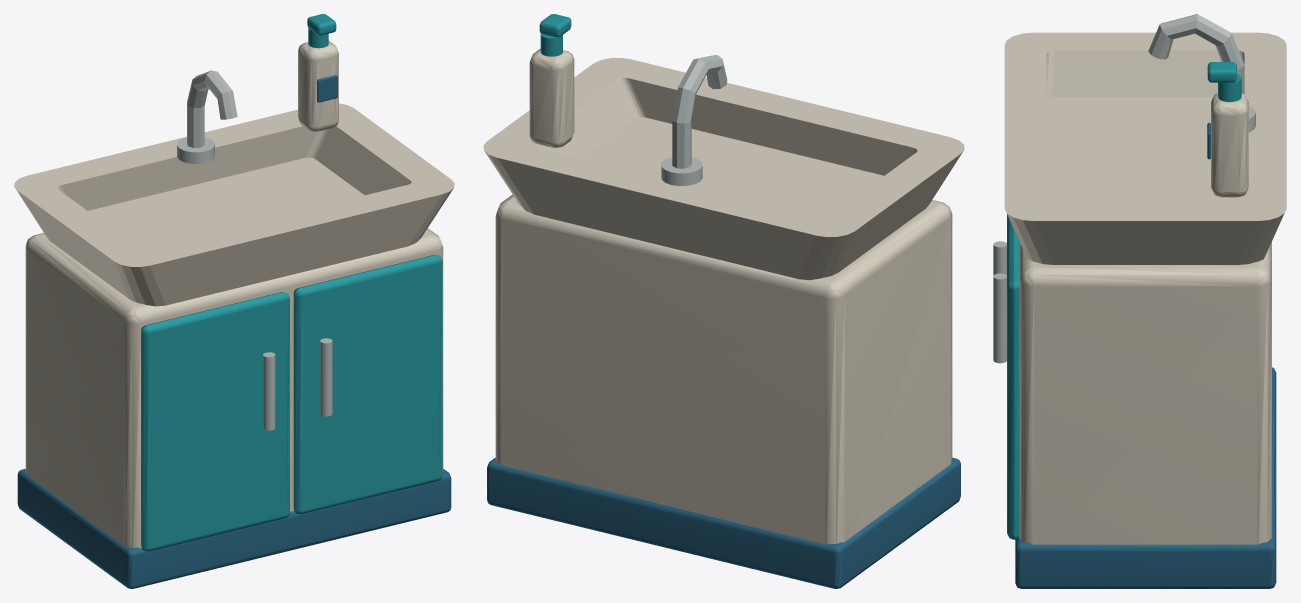
The model's file is 10_standard_utility_sink.glb.
The picture shows the model from 3 angles, left to right: view 1: azimuth 30°, elevation 25°; view 2: azimuth 150°, elevation 25°; view 3: azimuth 270°, elevation 25°; orthographic projection. The views are drawn at different scales.
Visible parts, largest first — view 1: 10_standard_utility_sink__Static; view 2: 10_standard_utility_sink__Static; view 3: 10_standard_utility_sink__Static.
Boxes of the visible parts, bbox=[...] form: 10_standard_utility_sink__Static: bbox=[14, 14, 454, 588]; 10_standard_utility_sink__Static: bbox=[483, 14, 964, 588]; 10_standard_utility_sink__Static: bbox=[993, 14, 1286, 588].
Bounding box in the file's own units: 1.06 × 1.32 × 0.697.
